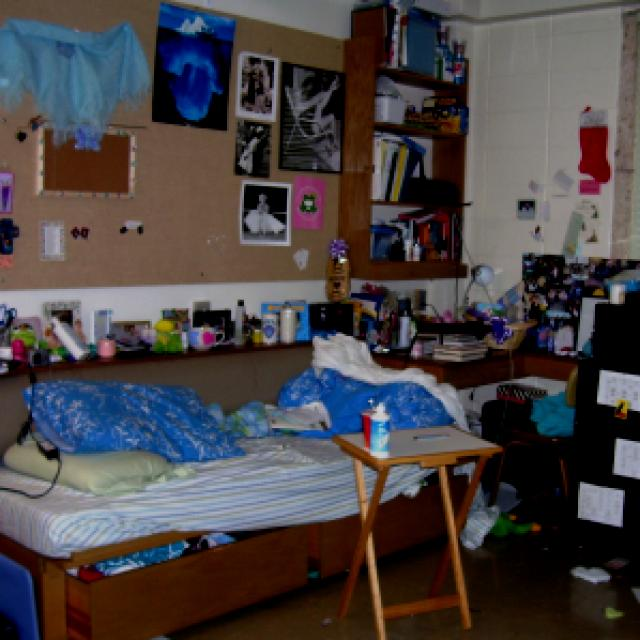mess: (0, 364, 464, 499), (0, 280, 640, 364), (364, 5, 474, 301), (480, 468, 639, 640)
